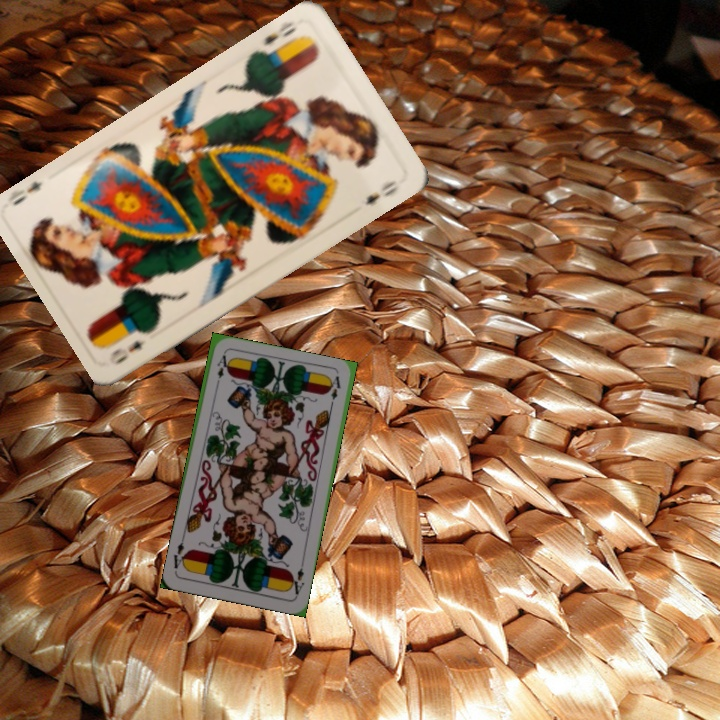EA: (286, 558, 307, 599), (212, 351, 229, 390)
EO: (253, 16, 308, 58), (105, 335, 149, 368)
